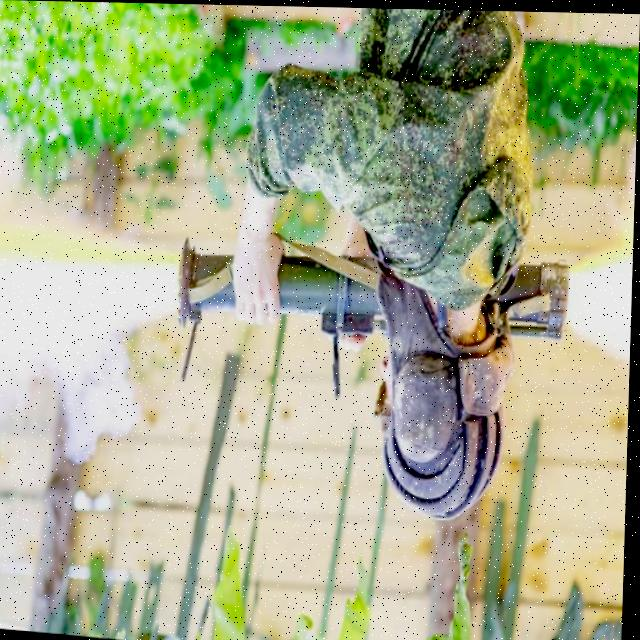rocket: (176, 216, 580, 357)
